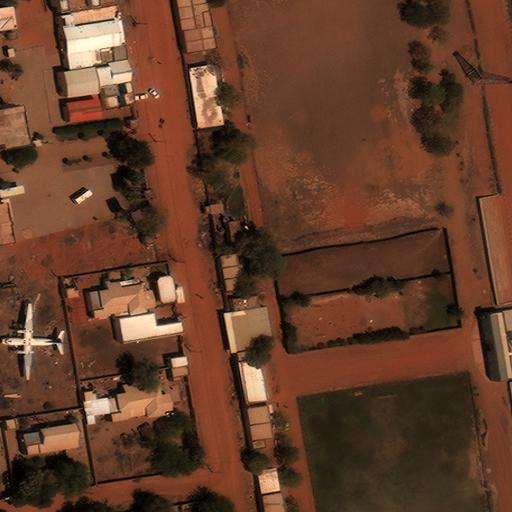Military Transport: (0, 303, 65, 379)
